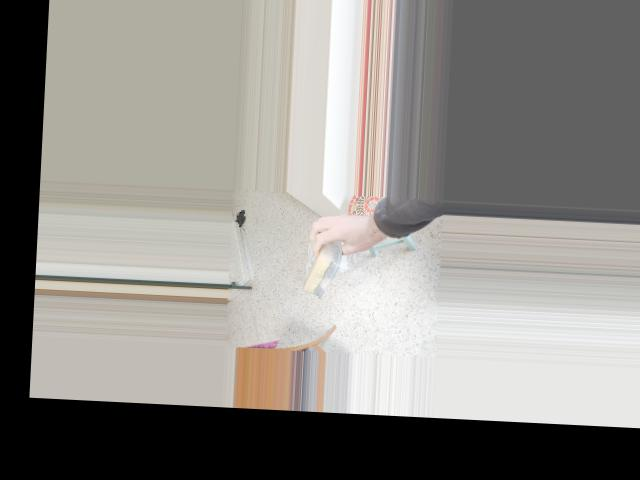cheese: (303, 214, 346, 303)
